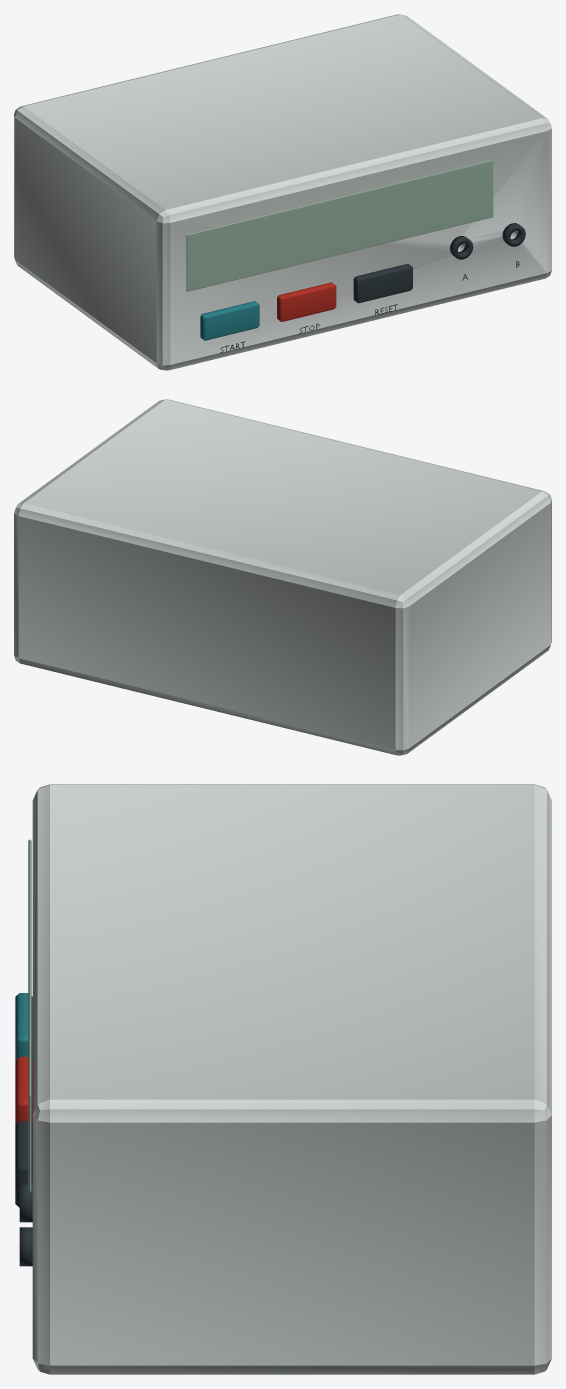
File: VLAB_timer.fbx
3 views of the same model, one above another, from view 1: azimuth 30°, elevation 25°; view 2: azimuth 150°, elevation 25°; view 3: azimuth 270°, elevation 25° (orthographic). The views are drawn at different scales.
Parts seen in each view (by area): view 1: VLAB_timer_Body_VIS, VLAB_timer_Display_VIS, VLAB_timer_Buttons_VIS; view 2: VLAB_timer_Body_VIS; view 3: VLAB_timer_Body_VIS, VLAB_timer_Buttons_VIS, VLAB_timer_Display_VIS.
Part boxes in pixels (x1,y1,x2,y2): VLAB_timer_Body_VIS: (14,14,551,370); VLAB_timer_Display_VIS: (186,160,493,291); VLAB_timer_Buttons_VIS: (200,263,412,340); VLAB_timer_Body_VIS: (14,399,551,755); VLAB_timer_Body_VIS: (32,784,551,1374); VLAB_timer_Buttons_VIS: (15,993,32,1207); VLAB_timer_Display_VIS: (28,839,31,1192).
Size of the model in its own units: 0.18 by 0.07 by 0.1243.
